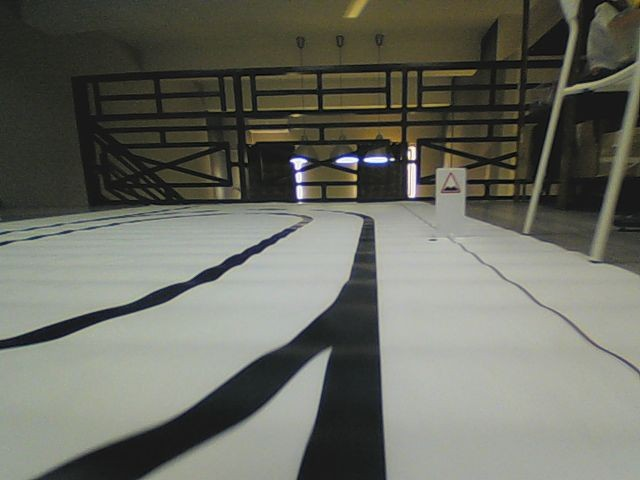Nerov: (439, 172, 461, 195)
